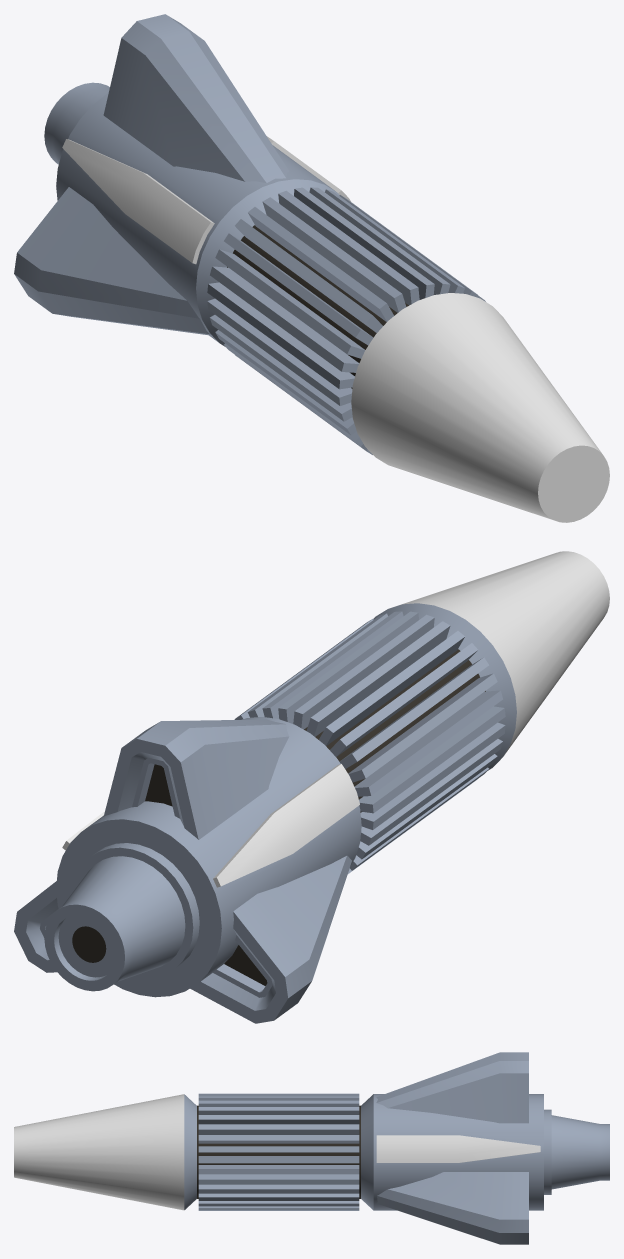
The model's file is 01_missile_kontalagrad.glb.
The picture shows the model from 3 angles, top to bottom: view 1: azimuth 30°, elevation 25°; view 2: azimuth 150°, elevation 25°; view 3: azimuth 270°, elevation 25°; orthographic projection. The views are drawn at different scales.
Visible parts, largest first — view 1: 01_missile_kontalagrad; view 2: 01_missile_kontalagrad; view 3: 01_missile_kontalagrad.
Boxes of the visible parts, x1,y1,x2,y2 form: 01_missile_kontalagrad: [14, 14, 609, 522]; 01_missile_kontalagrad: [14, 551, 609, 1023]; 01_missile_kontalagrad: [14, 1052, 609, 1244].
Bounding box in the file's own units: 0.3236 × 0.2887 × 1.
